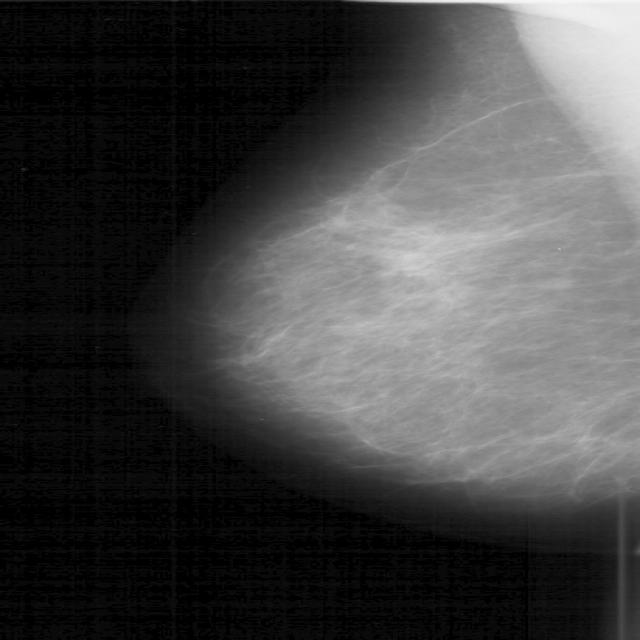tumour: (365, 226, 511, 277)
